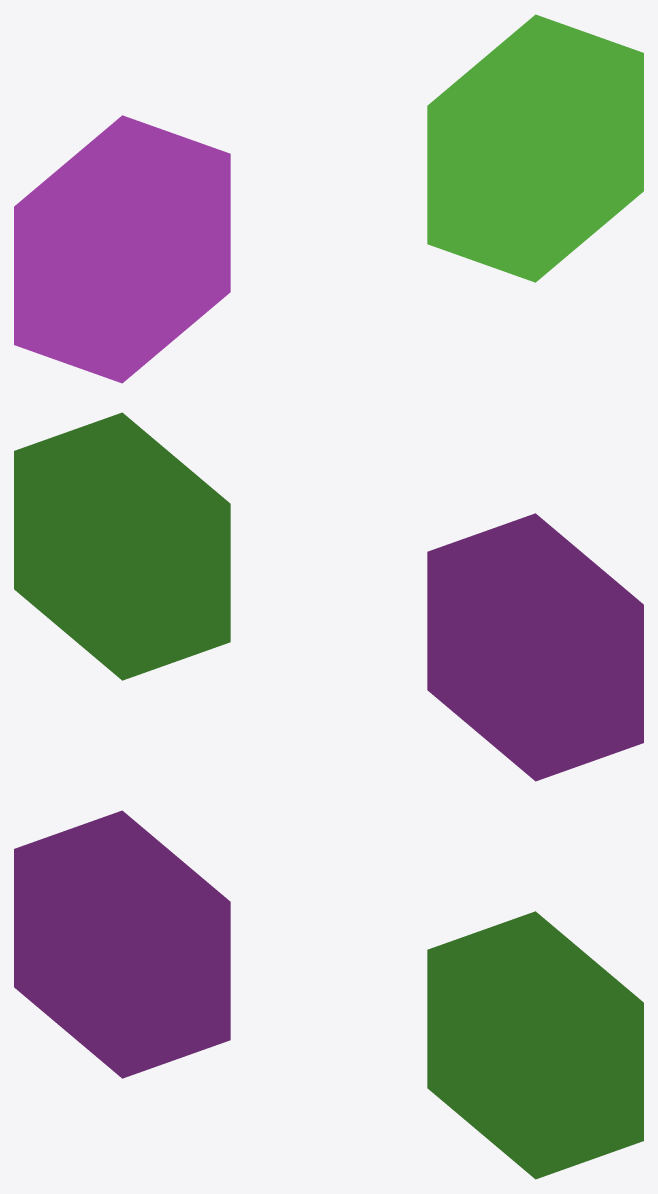
File: HexPanels.fbx
3 views of the same model, one above another, from view 1: azimuth 30°, elevation 25°; view 2: azimuth 150°, elevation 25°; view 3: azimuth 330°, elevation 25° (orthographic).
Visible parts, largest first — view 1: HexagonPanel, HexagonPanel.001; view 2: HexagonPanel, HexagonPanel.001; view 3: HexagonPanel, HexagonPanel.001.
Boxes of the visible parts, x1=… form: HexagonPanel: x1=14, y1=115, x2=230, y2=383; HexagonPanel.001: x1=427, y1=14, x2=643, y2=282; HexagonPanel: x1=427, y1=513, x2=643, y2=781; HexagonPanel.001: x1=14, y1=412, x2=230, y2=680; HexagonPanel: x1=14, y1=810, x2=230, y2=1078; HexagonPanel.001: x1=427, y1=911, x2=643, y2=1179.
Bounding box in the file's own units: 329 × 134 × 3.37e-05.
